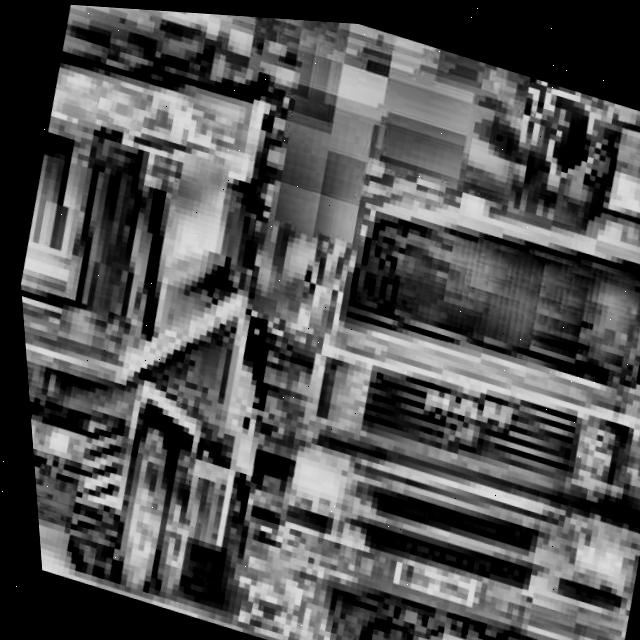dump_truck: (230, 18, 640, 640), (0, 0, 374, 638)
